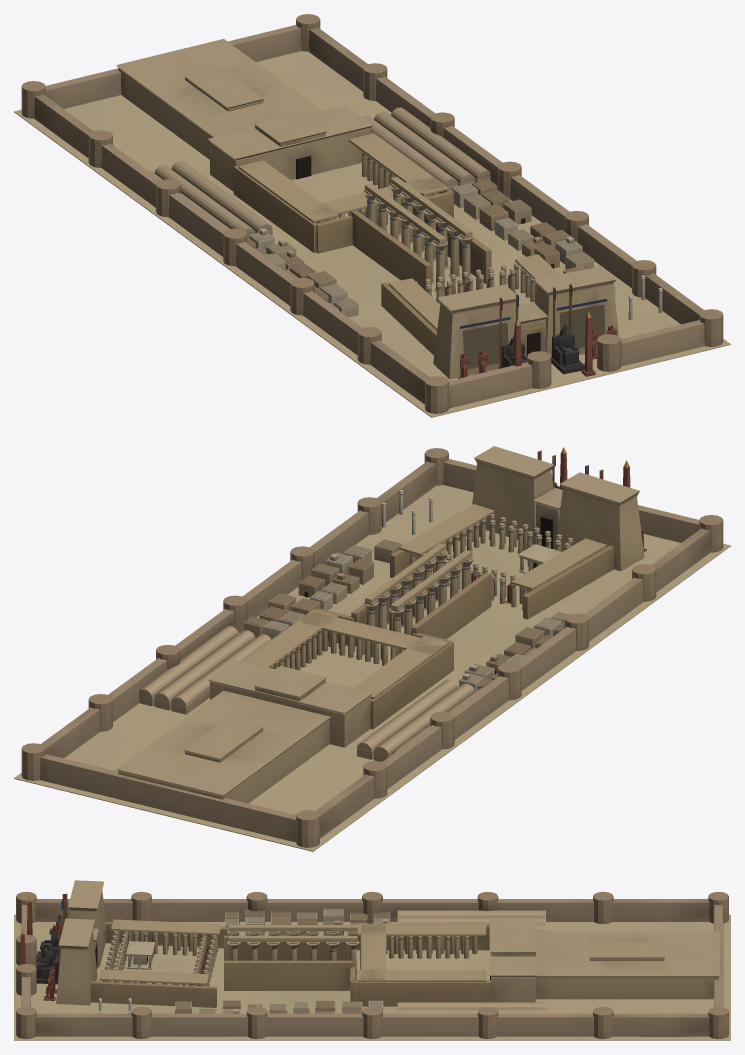
File: luxor-roman.glb
The picture shows the model from 3 angles, top to bottom: view 1: azimuth 30°, elevation 25°; view 2: azimuth 150°, elevation 25°; view 3: azimuth 270°, elevation 25°; orthographic projection. The views are drawn at different scales.
Visible parts, largest first — view 1: p1_temple, p0_walls, p3_barracks, p2_camp; view 2: p1_temple, p0_walls, p3_barracks, p2_camp; view 3: p1_temple, p0_walls, p2_camp, p3_barracks.
Part boxes in pixels (box(x1,y1,x2,y2)): p1_temple: box(21, 14, 723, 413); p0_walls: box(14, 25, 730, 417); p3_barracks: box(146, 107, 616, 378); p2_camp: box(238, 133, 662, 320); p1_temple: box(21, 446, 723, 847); p0_walls: box(14, 459, 730, 851); p3_barracks: box(139, 447, 646, 761); p2_camp: box(243, 490, 473, 698); p1_temple: box(16, 880, 728, 1039); p0_walls: box(14, 899, 730, 1040); p2_camp: box(98, 923, 486, 1013); p3_barracks: box(20, 896, 545, 1013).
Size of the model in its own units: 120 by 28.32 by 290.
